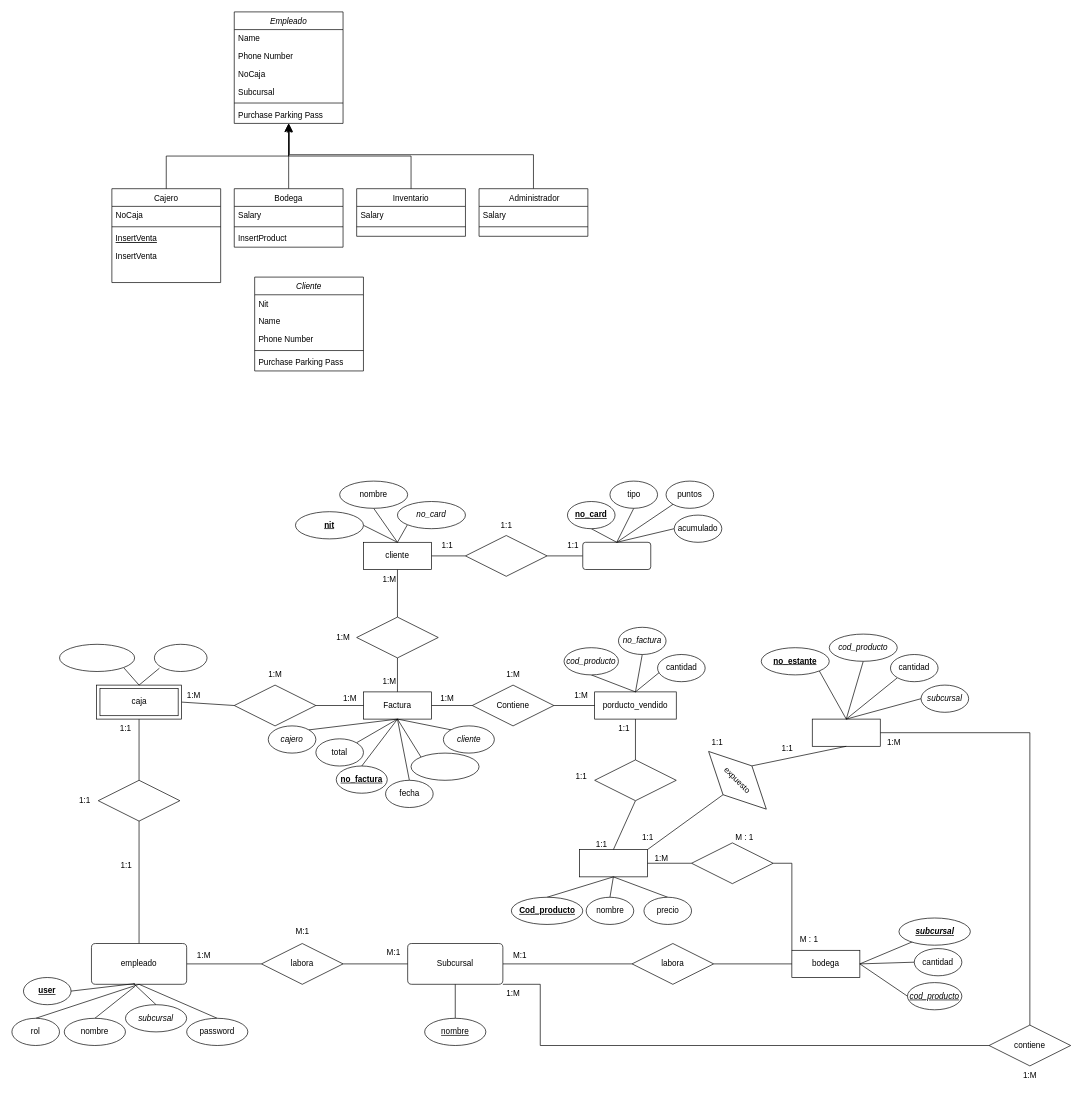
The diagram is 1083 pixels wide and 1098 high, and some of its shapes have lost their labels. Each missing label, with the centre of its shape:
"almacena" goes at point 732,863.
"Asigna" goes at point 139,800.
"estante" goes at point 846,732.
"no_caja" goes at point 180,658.
"Obtiene" goes at point 397,637.
"producto" goes at point 613,863.
"Realiza" goes at point 275,705.
"tarjeta" goes at point 616,556.
"Tiene" goes at point 506,555.
"total_descuento" goes at point 444,766.
"user_empleado" goes at point 97,658.
"vende" goes at point 635,780.
